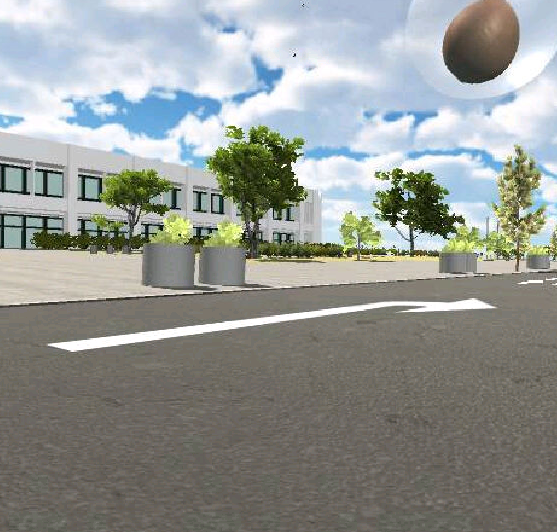ground_right: (331, 296, 501, 314)
